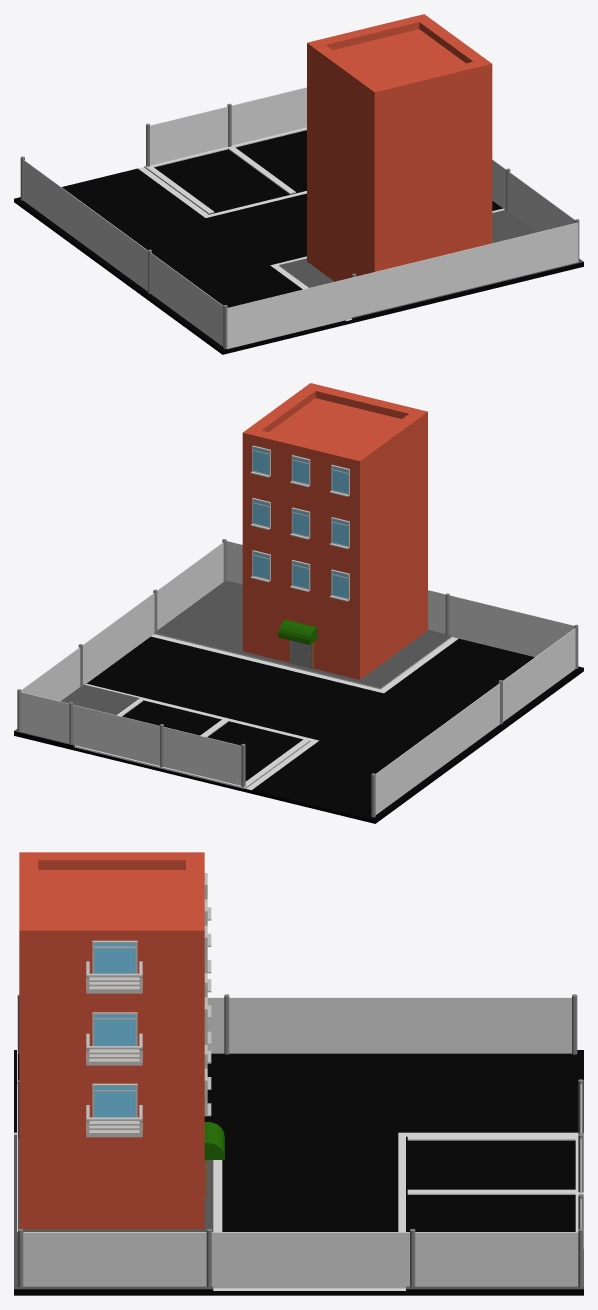
Rendered from Casa_1_.fbx.
The picture shows the model from 3 angles, top to bottom: view 1: azimuth 30°, elevation 25°; view 2: azimuth 150°, elevation 25°; view 3: azimuth 270°, elevation 25°; orthographic projection. The views are drawn at different scales.
Visible parts, largest first — view 1: Edificio, Chao, Cerca.001, Cerca.002, Cerca.003, Cerca.004, Lugares, Pilares da cerca; view 2: Chao, Edificio, Cerca.003, Cerca.002, Cerca.004, Cerca.001, Janela, Pilares da cerca, Lugares, Cube, Porta; view 3: Chao, Edificio, Cerca.004, Cerca.002, Janela Grande, Varanda, Pilares da cerca, Lugares, Janela, Cube.
Boxes of the visible parts, bbox=[...] form: Edificio: bbox=[307, 14, 492, 281]; Chao: bbox=[14, 130, 583, 354]; Cerca.001: bbox=[227, 222, 578, 348]; Cerca.002: bbox=[23, 160, 223, 346]; Cerca.003: bbox=[150, 87, 306, 165]; Cerca.004: bbox=[492, 159, 575, 232]; Lugares: bbox=[144, 127, 306, 213]; Pilares da cerca: bbox=[20, 103, 579, 349]; Chao: bbox=[14, 580, 583, 823]; Edificio: bbox=[242, 383, 427, 679]; Cerca.003: bbox=[20, 692, 241, 785]; Cerca.002: bbox=[375, 628, 575, 814]; Cerca.004: bbox=[21, 542, 223, 701]; Cerca.001: bbox=[226, 541, 574, 656]; Janela: bbox=[250, 445, 349, 601]; Pilares da cerca: bbox=[17, 539, 578, 817]; Lugares: bbox=[74, 699, 309, 788]; Cube: bbox=[278, 619, 317, 644]; Porta: bbox=[289, 640, 313, 669]; Chao: bbox=[14, 1050, 583, 1295]; Edificio: bbox=[19, 852, 204, 1229]; Cerca.004: bbox=[23, 1232, 578, 1288]; Cerca.002: bbox=[207, 997, 571, 1053]; Janela Grande: bbox=[92, 940, 137, 1117]; Varanda: bbox=[86, 961, 142, 1137]; Pilares da cerca: bbox=[17, 994, 583, 1287]; Lugares: bbox=[407, 1135, 583, 1248]; Janela: bbox=[204, 873, 211, 1116]; Cube: bbox=[204, 1122, 224, 1159].
Size of the model in its own units: 649 by 649 by 384.
